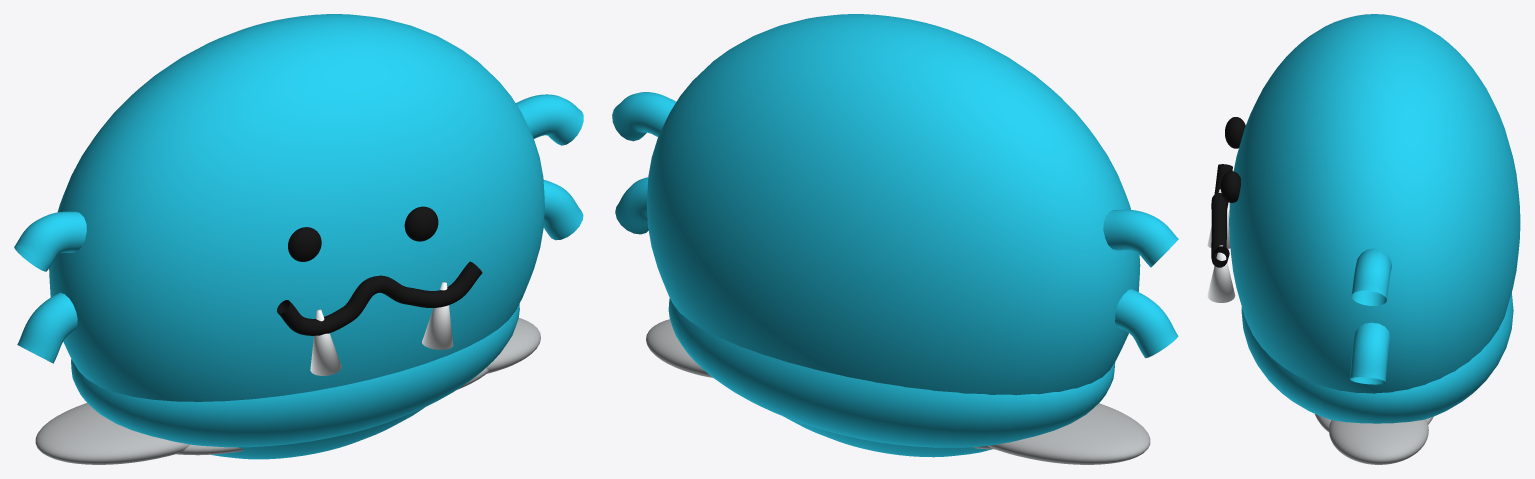
The model's file is foca.glb.
The picture shows the model from 3 angles, left to right: view 1: azimuth 30°, elevation 25°; view 2: azimuth 150°, elevation 25°; view 3: azimuth 270°, elevation 25°; orthographic projection. The views are drawn at different scales.
Parts seen in each view (by area): view 1: CUERPO, BASE_AZUL, GEL_1, BOCA, BRAZO_IZQ_SUP, BRAZO_IZQ_INF, BRAZO_DER_SUP, BRAZO_DER_INF, GEL_5, COLMILLO_IZQ, COLMILLO_DER, OJO_DER (+1 smaller); view 2: CUERPO, BASE_AZUL, GEL_1, BRAZO_IZQ_SUP, BRAZO_IZQ_INF, BRAZO_DER_SUP, GEL_5, BRAZO_DER_INF; view 3: CUERPO, BASE_AZUL, GEL_5, BRAZO_DER_INF, BRAZO_DER_SUP, BOCA, COLMILLO_DER, OJO_DER, OJO_IZQ.
Boxes of the visible parts, bbox=[...] form: CUERPO: bbox=[49, 14, 544, 459]; BASE_AZUL: bbox=[71, 304, 519, 447]; GEL_1: bbox=[35, 403, 189, 464]; BOCA: bbox=[277, 261, 482, 335]; BRAZO_IZQ_SUP: bbox=[14, 211, 86, 271]; BRAZO_IZQ_INF: bbox=[17, 292, 77, 363]; BRAZO_DER_SUP: bbox=[515, 94, 583, 145]; BRAZO_DER_INF: bbox=[543, 180, 583, 240]; GEL_5: bbox=[486, 318, 540, 373]; COLMILLO_IZQ: bbox=[310, 309, 341, 375]; COLMILLO_DER: bbox=[422, 282, 453, 349]; OJO_DER: bbox=[404, 206, 438, 241]; CUERPO: bbox=[646, 14, 1140, 457]; BASE_AZUL: bbox=[668, 298, 1115, 447]; GEL_1: bbox=[988, 403, 1150, 464]; BRAZO_IZQ_SUP: bbox=[1103, 209, 1178, 267]; BRAZO_IZQ_INF: bbox=[1115, 289, 1178, 358]; BRAZO_DER_SUP: bbox=[612, 92, 676, 141]; GEL_5: bbox=[646, 319, 712, 377]; BRAZO_DER_INF: bbox=[615, 177, 648, 234]; CUERPO: bbox=[1229, 14, 1520, 393]; BASE_AZUL: bbox=[1241, 292, 1513, 423]; GEL_5: bbox=[1329, 419, 1428, 464]; BRAZO_DER_INF: bbox=[1350, 322, 1390, 384]; BRAZO_DER_SUP: bbox=[1351, 248, 1391, 305]; BOCA: bbox=[1211, 164, 1232, 267]; COLMILLO_DER: bbox=[1207, 245, 1235, 302]; OJO_DER: bbox=[1220, 171, 1240, 202]; OJO_IZQ: bbox=[1225, 117, 1245, 148].
Size of what is drawn, in the model's own units: 4.13 by 2.9 by 2.25.
